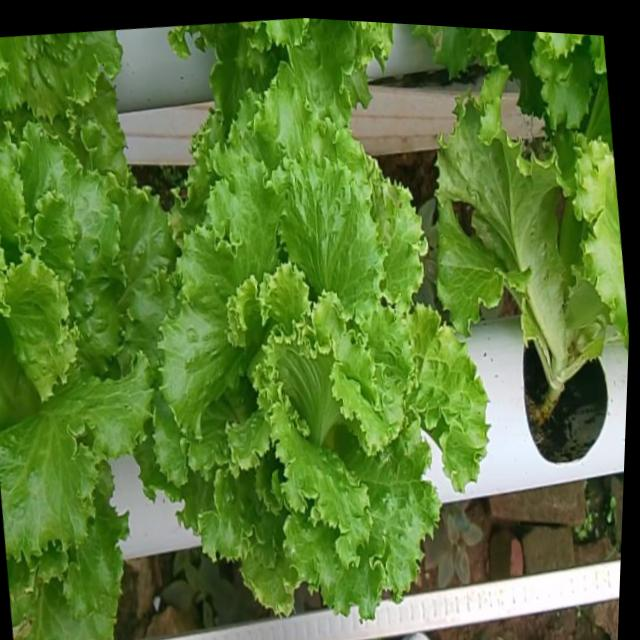Mature: (163, 99, 496, 636), (0, 135, 182, 582)
